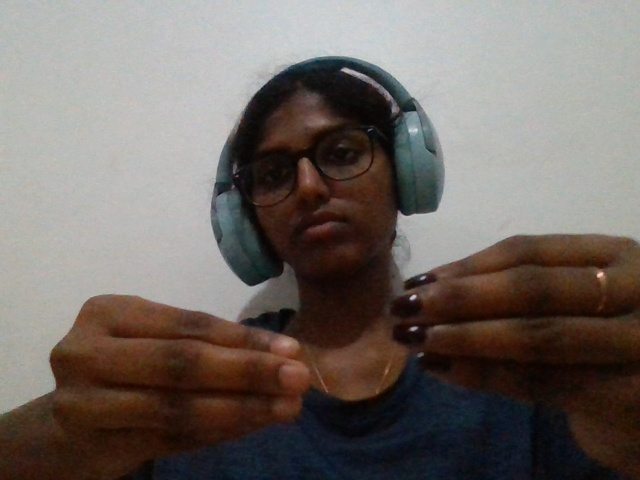More: (19, 221, 640, 464)
